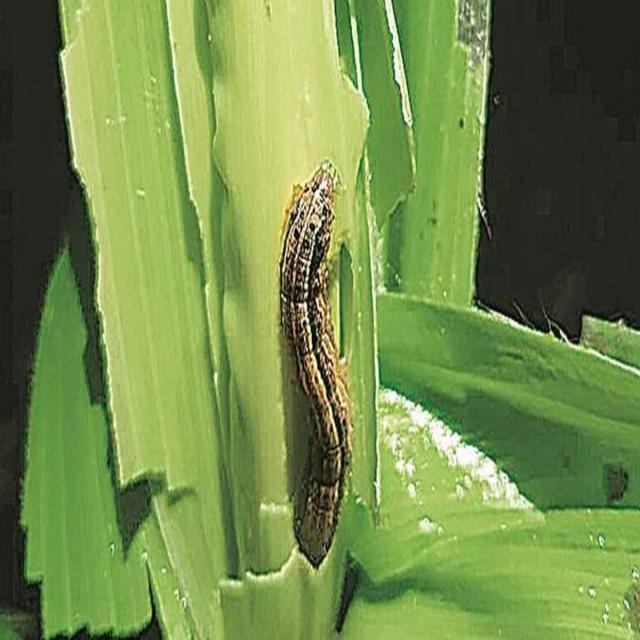armyworm: (280, 157, 357, 562)
